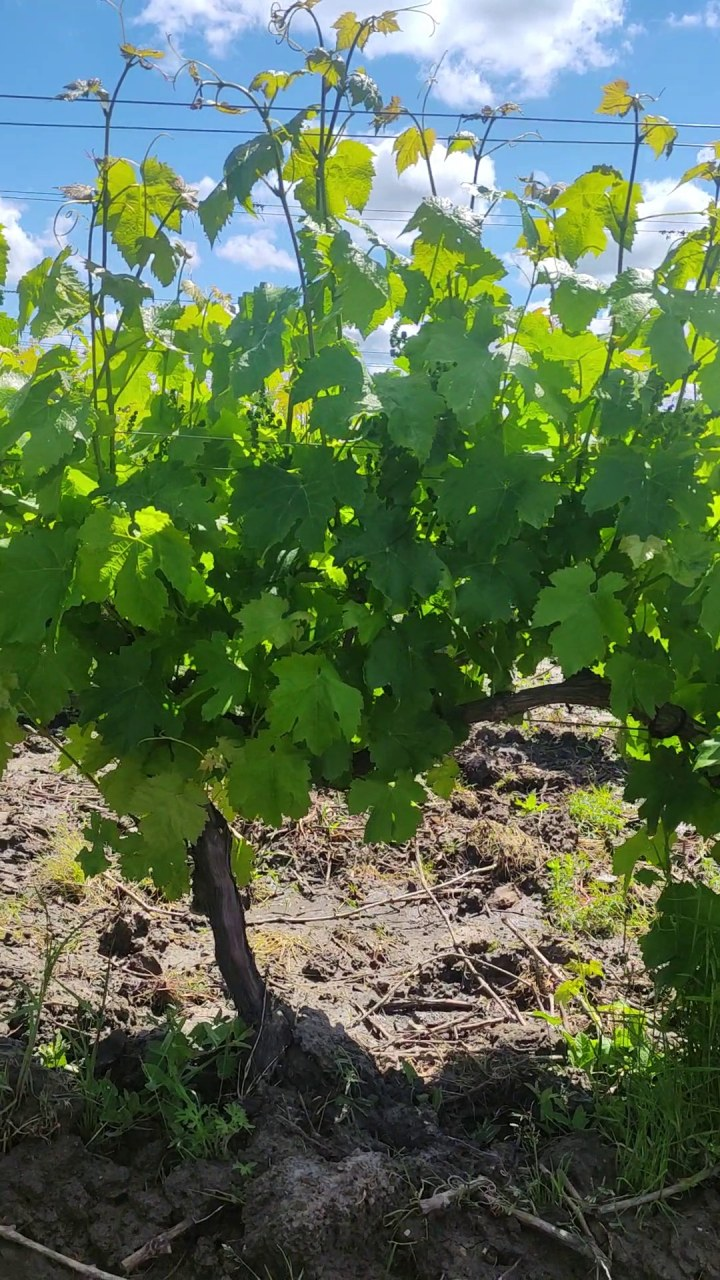vine_trunk: (191, 804, 292, 1072)
